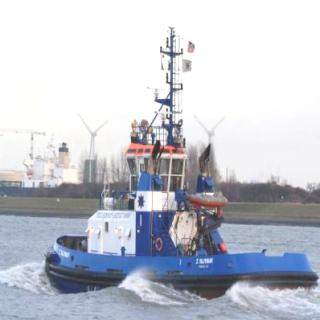Tug Boat: (47, 77, 320, 288)
